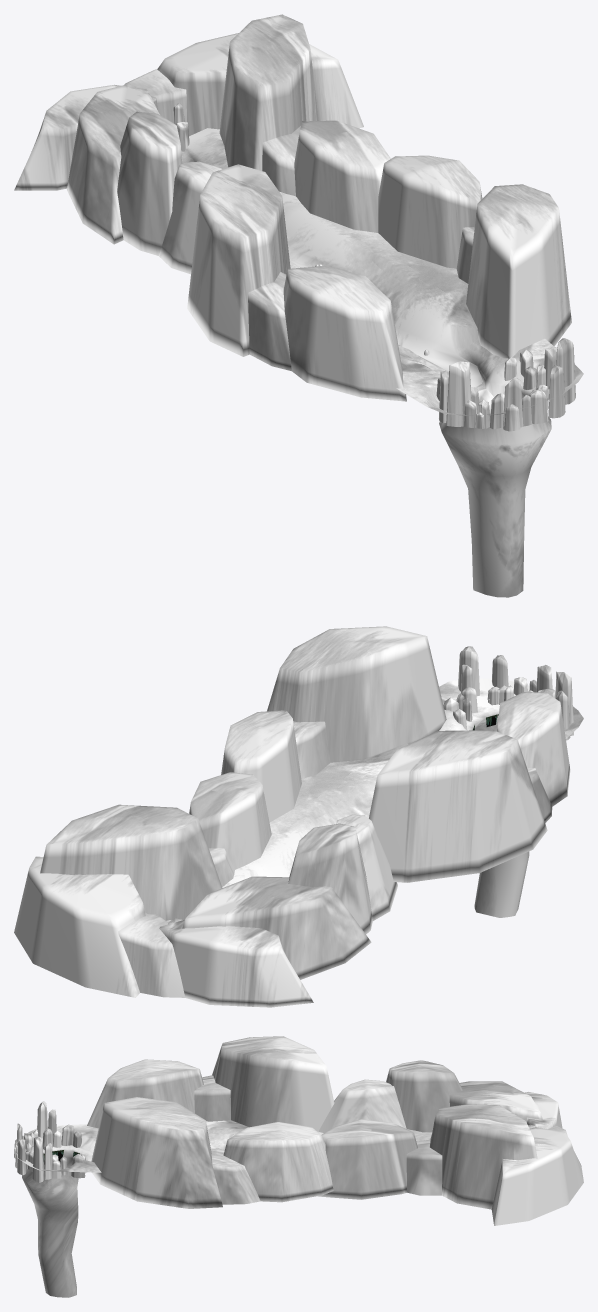
Rendered from Temporal Shift - Tutorial walkway (vers 1).fbx.
The picture shows the model from 3 angles, top to bottom: view 1: azimuth 30°, elevation 25°; view 2: azimuth 150°, elevation 25°; view 3: azimuth 270°, elevation 25°; orthographic projection. The views are drawn at different scales.
Parts seen in each view (by area): view 1: Path, Cliff 1.002, Cliff 1.001, Cliff 1, Cliff 2, Cliff, Huge rocks; view 2: Cliff 1.002, Cliff, Cliff 1.001, Cliff 1, Cliff 2, Path, Huge rocks; view 3: Cliff 1.001, Cliff 1, Cliff 1.002, Cliff 2, Path, Cliff, Huge rocks.
Part boxes in pixels (x1,y1,x2,y2): Path: (181,128,583,597); Cliff 1.002: (187,164,406,401); Cliff 1.001: (378,155,571,358); Cliff 1: (219,14,390,232); Cliff 2: (67,84,221,274); Cliff: (14,33,363,190); Huge rocks: (436,338,575,431); Cliff 1.002: (369,692,570,882); Cliff: (14,856,313,1007); Cliff 1.001: (221,626,446,822); Cliff 1: (40,772,271,920); Cliff 2: (182,814,397,979); Path: (166,678,583,922); Huge rocks: (443,646,573,740); Cliff 1.001: (91,1097,333,1208); Cliff 1: (318,1104,537,1209); Cliff 1.002: (87,1036,334,1131); Cliff 2: (318,1060,542,1132); Path: (15,1120,432,1297); Cliff: (491,1092,583,1225); Huge rocks: (14,1101,86,1182).
Bounding box in the file's own units: 45294 × 38919 × 95167.
